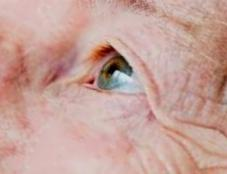eye: (100, 57, 131, 91)
